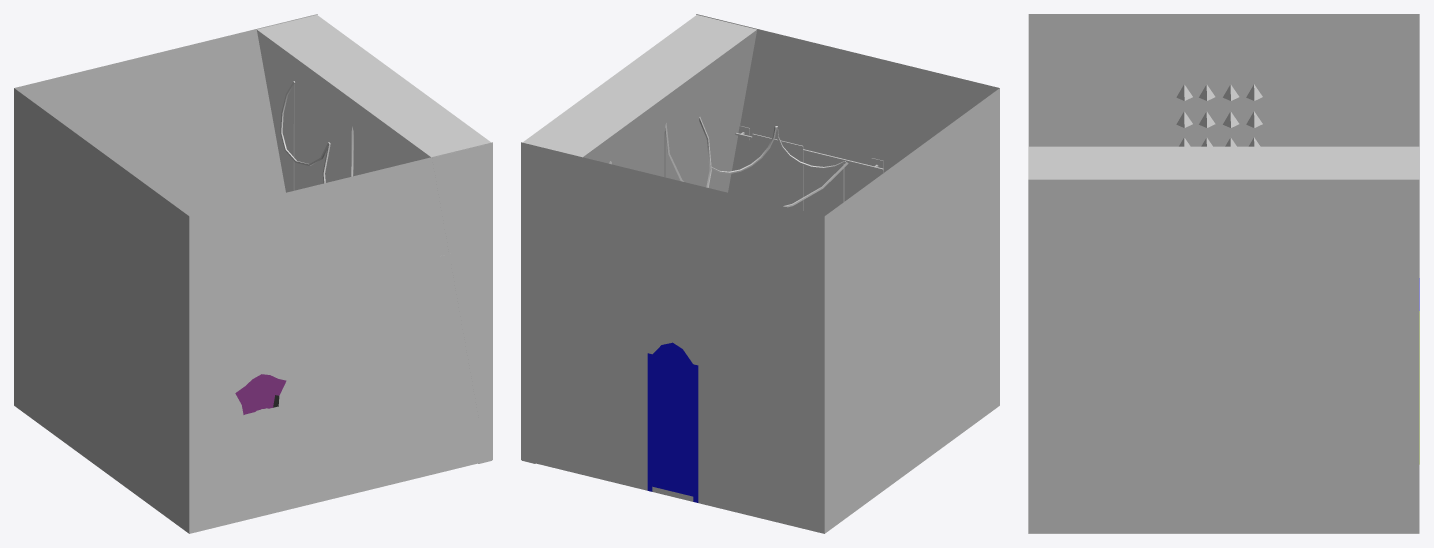
File: chambre sm.FBX
3 views of the same model, side by side, from view 1: azimuth 30°, elevation 25°; view 2: azimuth 150°, elevation 25°; view 3: azimuth 270°, elevation 25° (orthographic). The views are drawn at different scales.
Parts seen in each view (by area): view 1: piece carre015, miroir, chaine et menottes; view 2: piece carre015, armoire chambre sm, rideaux chambres sm, chaine et menottes; view 3: piece carre015.
Part boxes in pixels (x1,y1,x2,y2): piece carre015: (14,14,492,533); miroir: (235,374,286,414); chaine et menottes: (280,81,353,190); piece carre015: (521,14,999,533); armoire chambre sm: (647,342,698,502); rideaux chambres sm: (752,133,803,210); chaine et menottes: (609,117,848,207); piece carre015: (1028,14,1419,533).
Bounding box in the file's own units: 600 × 603 × 600.
